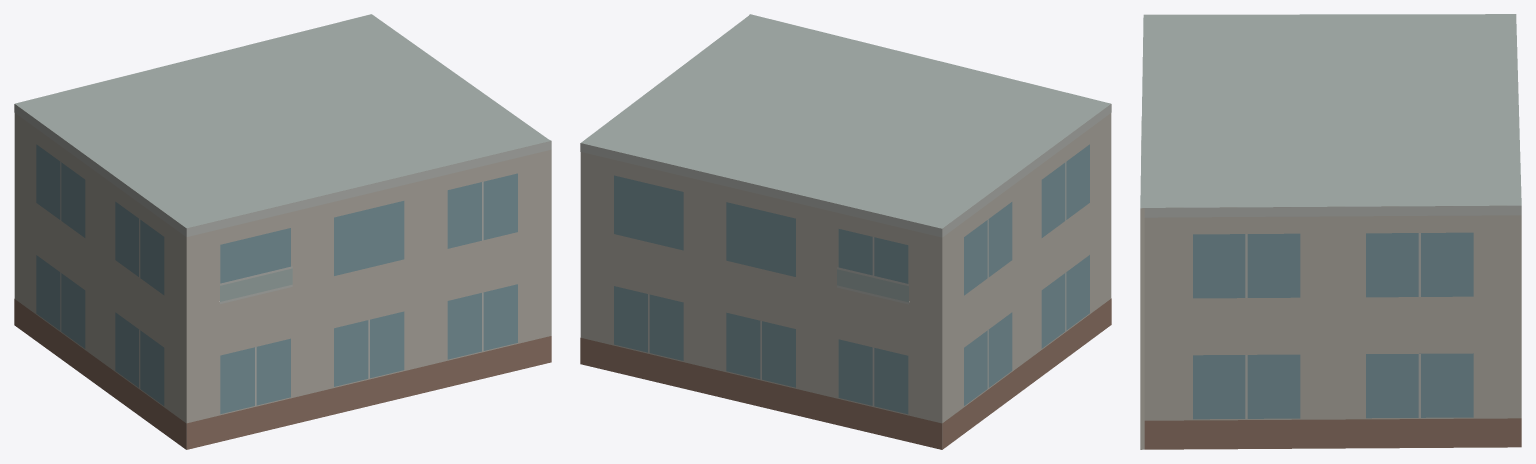
File: survey-upis-32520880.glb
3 renders of one model, left to right at view 1: azimuth 30°, elevation 25°; view 2: azimuth 150°, elevation 25°; view 3: azimuth 270°, elevation 25°, orthographic. The views are drawn at different scales.
Parts seen in each view (by area): view 1: survey-upis-32520880.tmp; view 2: survey-upis-32520880.tmp; view 3: survey-upis-32520880.tmp.
Part boxes in pixels (<box>): survey-upis-32520880.tmp: <box>14,14,551,449</box>; survey-upis-32520880.tmp: <box>580,14,1111,449</box>; survey-upis-32520880.tmp: <box>1140,14,1521,449</box>.
Bounding box in the file's own units: 10.52 × 6.1 × 8.74.
